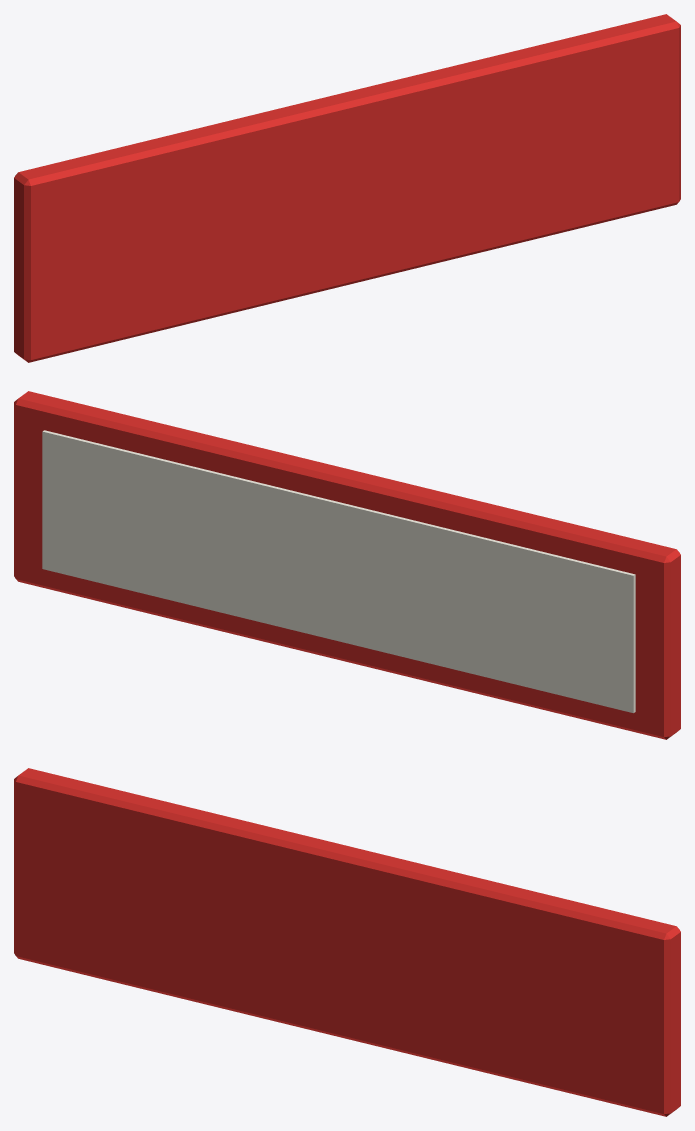
The model's file is env_signboard_blank.fbx.
3 renders of one model, top to bottom at view 1: azimuth 30°, elevation 25°; view 2: azimuth 150°, elevation 25°; view 3: azimuth 330°, elevation 25°, orthographic.
Visible parts, largest first — view 1: env_signboard_blank_geo; view 2: env_signboard_blank_geo; view 3: env_signboard_blank_geo.
Boxes of the visible parts, bbox=[...] form: env_signboard_blank_geo: bbox=[14, 14, 680, 362]; env_signboard_blank_geo: bbox=[14, 391, 680, 739]; env_signboard_blank_geo: bbox=[14, 768, 680, 1116].
Size of the model in its own units: 3 by 0.8 by 0.135.
